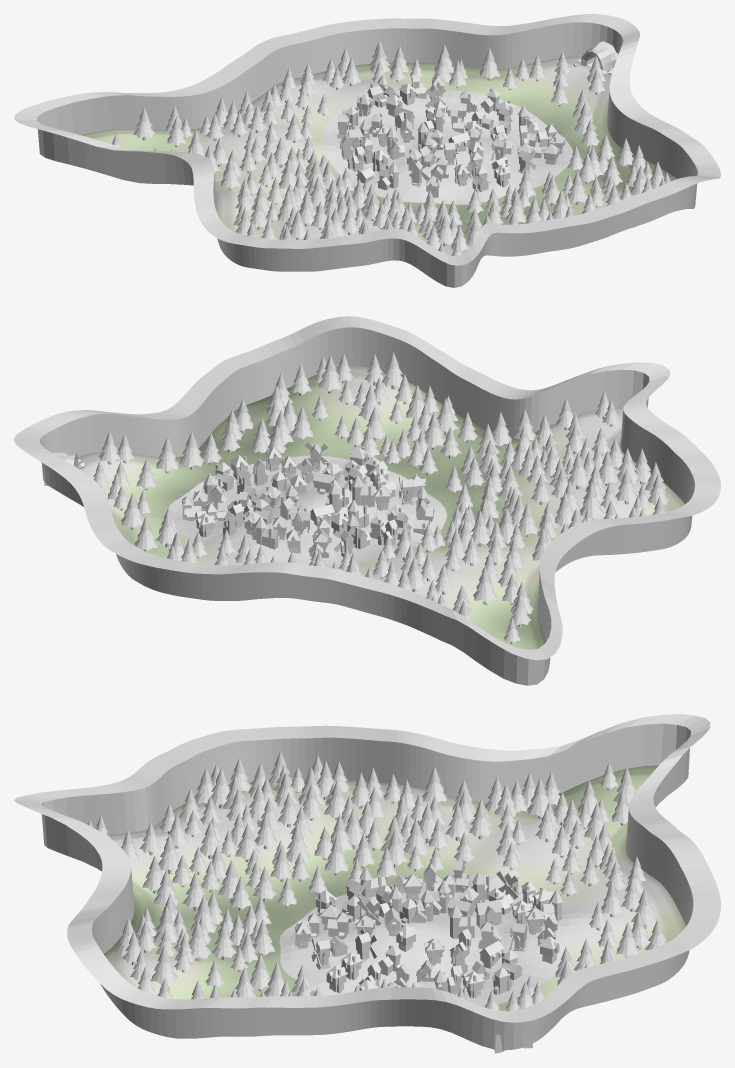
Rendered from level.glb.
3 views of the same model, one above another, from view 1: azimuth 30°, elevation 25°; view 2: azimuth 150°, elevation 25°; view 3: azimuth 270°, elevation 25° (orthographic). The views are drawn at different scales.
Parts seen in each view (by area): view 1: Wall, Ground, TownStone, Cave, House.019; view 2: Wall, Ground, TownStone; view 3: Wall, Ground, TownStone, House, House.042, Tree.116.
Part boxes in pixels (x1,y1,x2,y2): Wall: [14, 14, 720, 287]; Ground: [81, 56, 676, 255]; TownStone: [321, 88, 573, 204]; Cave: [581, 41, 618, 71]; House.019: [377, 162, 399, 190]; Wall: [14, 316, 720, 685]; Ground: [77, 365, 684, 649]; TownStone: [165, 456, 446, 567]; Wall: [14, 714, 720, 1050]; Ground: [104, 765, 685, 1011]; TownStone: [279, 875, 580, 1007]; House: [475, 899, 502, 927]; House.042: [448, 905, 475, 938]; Tree.116: [151, 945, 177, 984].
Bounding box in the file's own units: 432 × 43.82 × 395.
